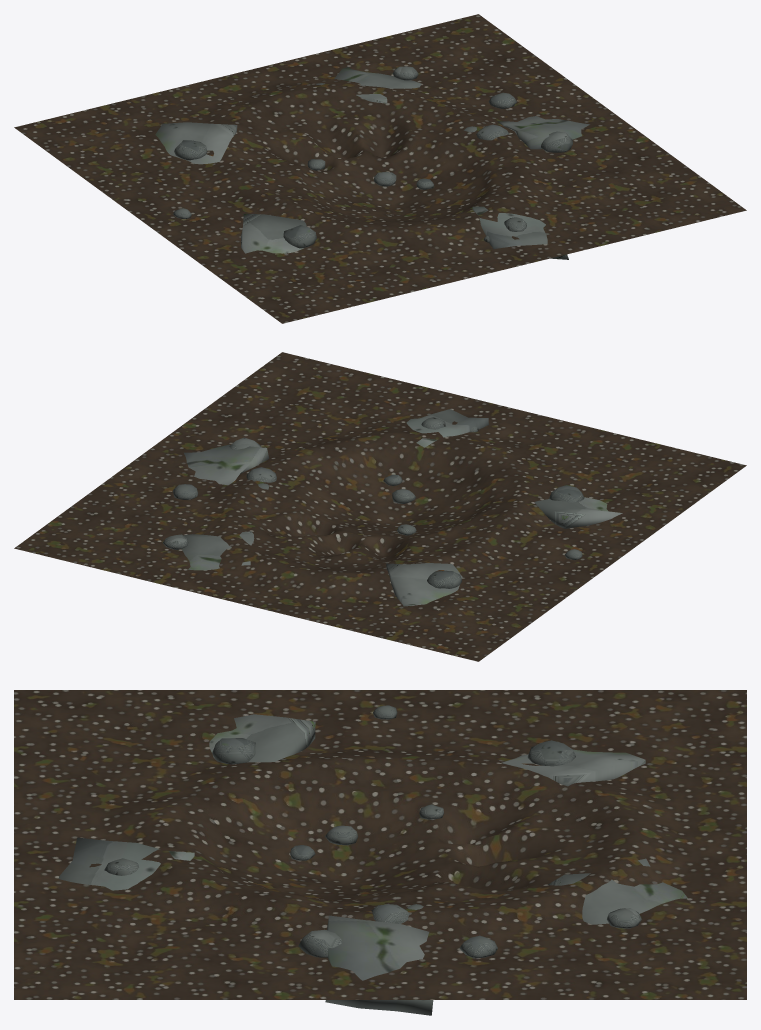
Rendered from foe_footprint.glb.
The picture shows the model from 3 angles, top to bottom: view 1: azimuth 30°, elevation 25°; view 2: azimuth 150°, elevation 25°; view 3: azimuth 270°, elevation 25°; orthographic projection. The views are drawn at different scales.
Visible parts, largest first — view 1: foe_footprint__soil, foe_footprint__stone_block, foe_footprint__stone_dark; view 2: foe_footprint__soil, foe_footprint__stone_block, foe_footprint__stone_dark; view 3: foe_footprint__soil, foe_footprint__stone_block, foe_footprint__stone_dark.
Part boxes in pixels (x1,y1,x2,y2): foe_footprint__soil: (14, 14, 746, 323); foe_footprint__stone_block: (155, 67, 589, 259); foe_footprint__stone_dark: (173, 66, 572, 248); foe_footprint__soil: (14, 352, 746, 661); foe_footprint__stone_block: (182, 409, 622, 606); foe_footprint__stone_dark: (163, 417, 584, 588); foe_footprint__soil: (14, 690, 746, 999); foe_footprint__stone_block: (58, 714, 687, 1015); foe_footprint__stone_dark: (104, 705, 641, 958).
Size of the model in its own units: 2.6 by 0.2074 by 2.6.
Materials: 3 (3 with a texture image).
